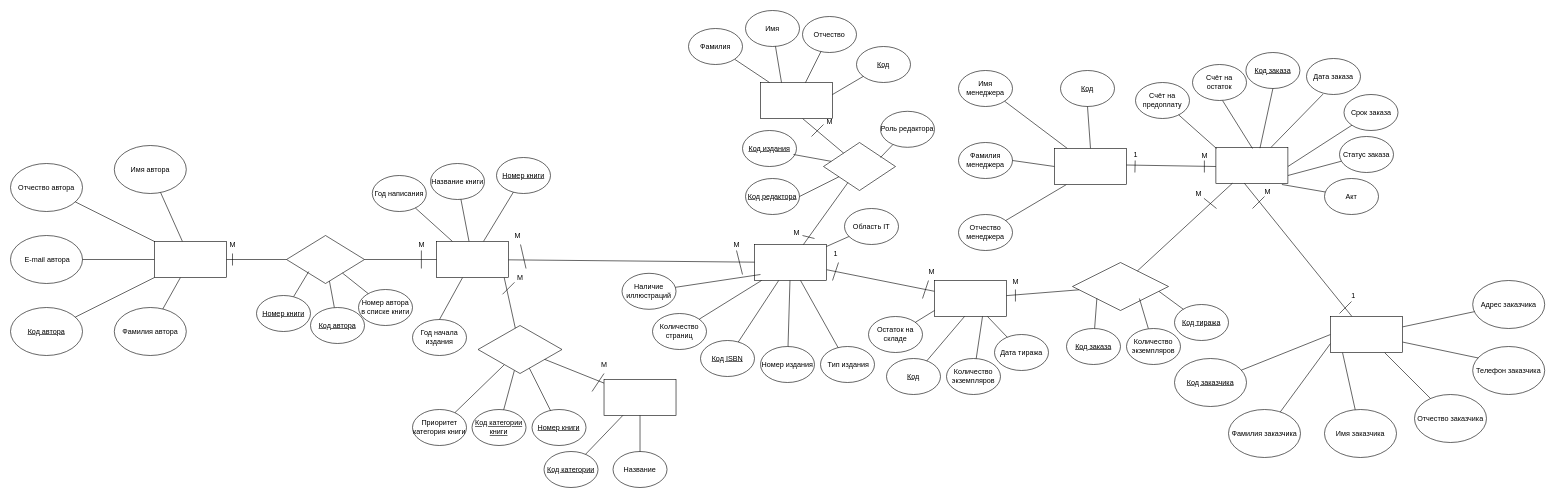
This 1555x498 diagram has some shape labels left out. The shapes that lost their labels are listed below. From the top down, each one's box as (x1, y1, x2, y2) in pixels, then its label:
(760, 82, 832, 118): Редактор
(823, 142, 896, 190): Редакция
(1054, 148, 1126, 184): Менеджер
(1215, 147, 1288, 183): Заказ
(154, 241, 226, 278): Автор
(286, 235, 364, 284): Авторство
(436, 241, 508, 278): Книга
(754, 244, 826, 280): Издание
(934, 280, 1006, 316): Тираж
(1072, 262, 1168, 310): Составление заказа
(477, 325, 562, 374): Категоризация
(1330, 316, 1402, 352): Заказчик
(603, 379, 676, 416): Категория книги
